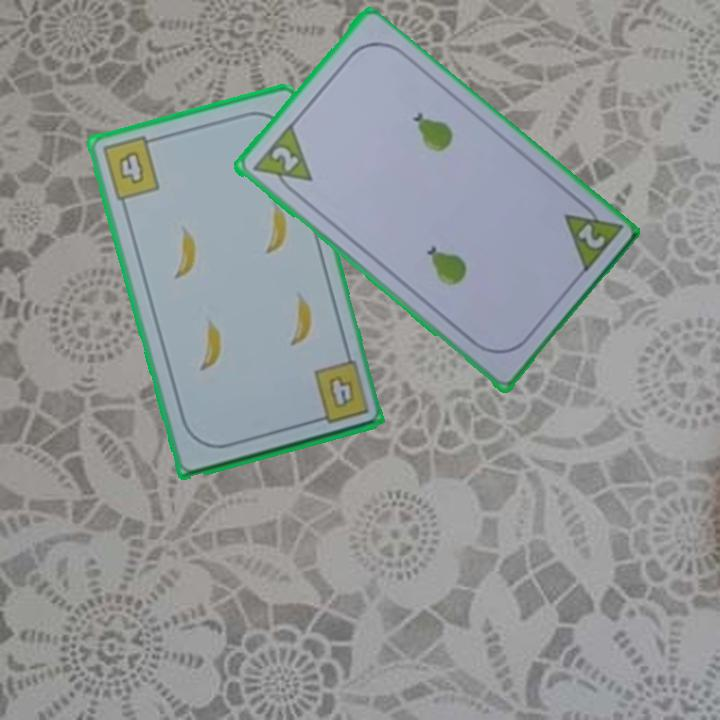2p: (559, 194, 624, 277), (247, 121, 315, 200)
4b: (98, 133, 163, 204), (308, 359, 372, 427)
